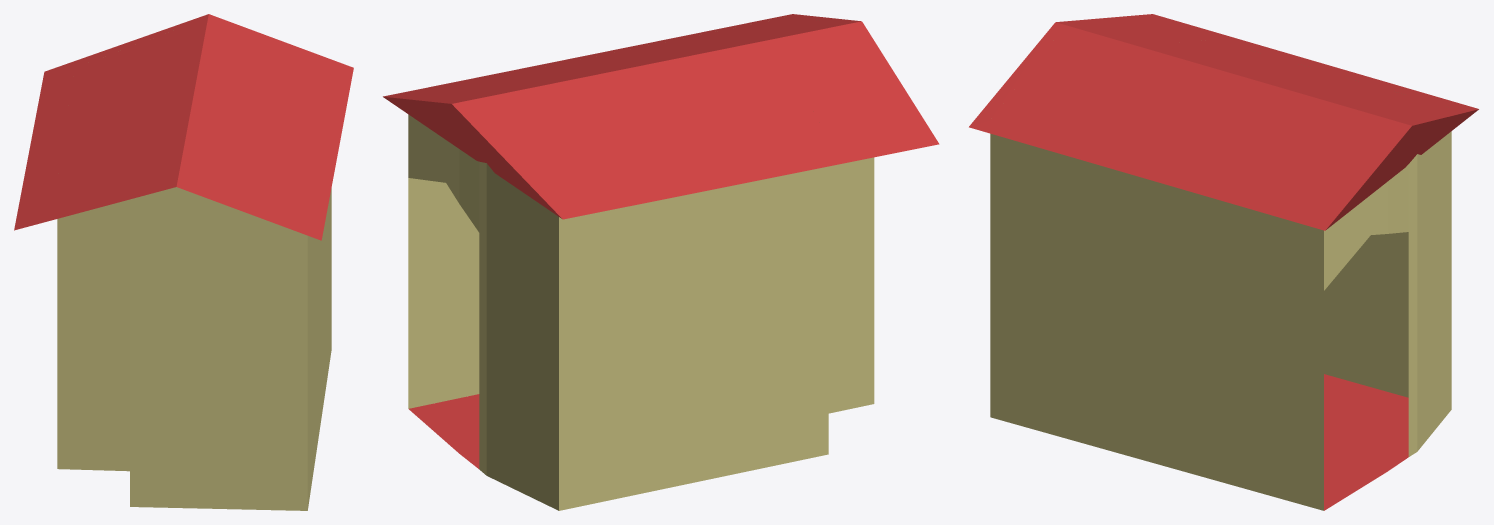
3 renders of one model, left to right at view 1: azimuth 30°, elevation 25°; view 2: azimuth 150°, elevation 25°; view 3: azimuth 270°, elevation 25°, orthographic. The views are drawn at different scales.
Parts seen in each view (by area): view 1: group_6, group_3, group_5; view 2: group_6, group_3, group_5, group_4, group_7; view 3: group_6, group_3, group_7, group_5, group_4.
Part boxes in pixels (x1,y1,x2,y2): group_6: (57,187,331,510); group_3: (14,14,353,239); group_5: (14,14,325,240); group_6: (408,114,874,510); group_3: (383,17,938,193); group_5: (452,14,938,219); group_4: (383,96,561,218); group_7: (409,394,479,468); group_6: (990,131,1451,510); group_3: (970,14,1450,230); group_7: (1324,374,1408,510); group_5: (969,14,1478,189); group_4: (1326,109,1478,229).
Bounding box in the file's own units: 17.3 × 17.23 × 12.78.
